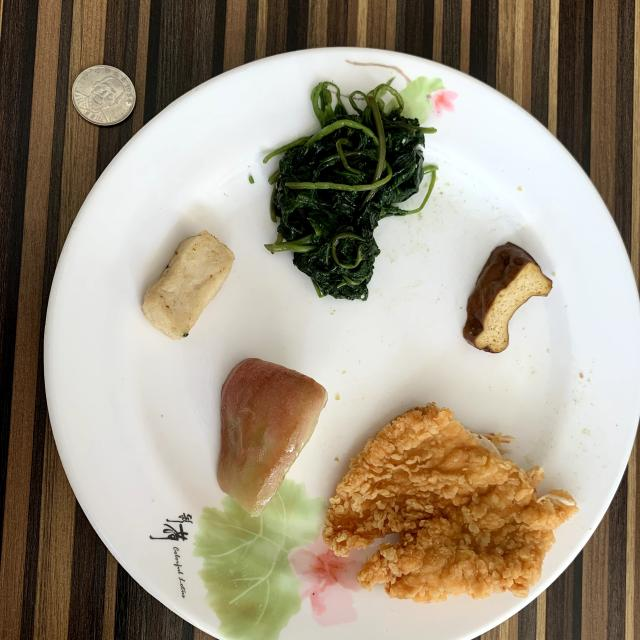coin: (71, 65, 136, 125)
creamy tofu -without sauce-: (142, 230, 234, 340)
firm tofu: (464, 242, 552, 352)
fried chicken cutlet: (322, 404, 578, 602)
sweet potato leaves: (264, 81, 435, 300)
